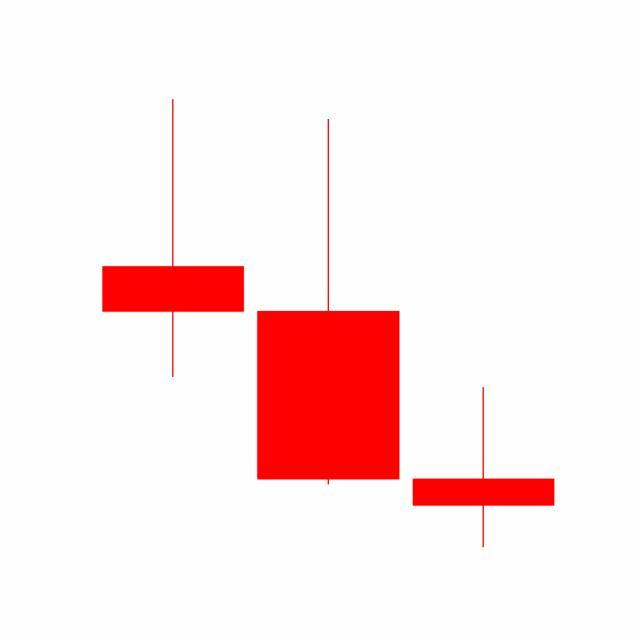Spinning Top: (406, 386, 562, 550)
